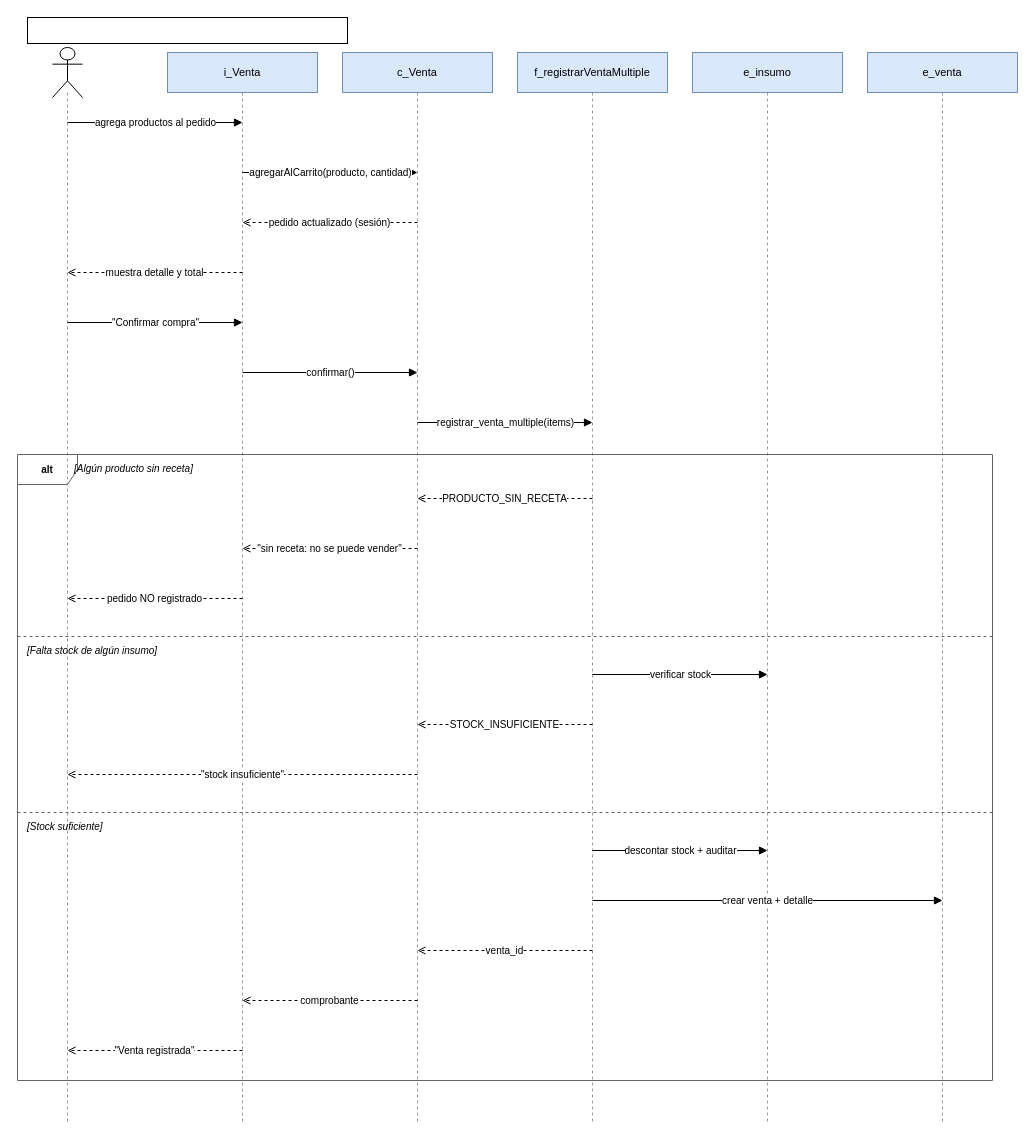
This 1035x1143 diagram has some shape labels left out. The box of each missing label's shape, as (x1, y1, x2, y2) in pixels:
Cajero: (52, 46, 82, 98)
Secuencia - Registrar Venta (CU-15): (26, 16, 348, 44)
